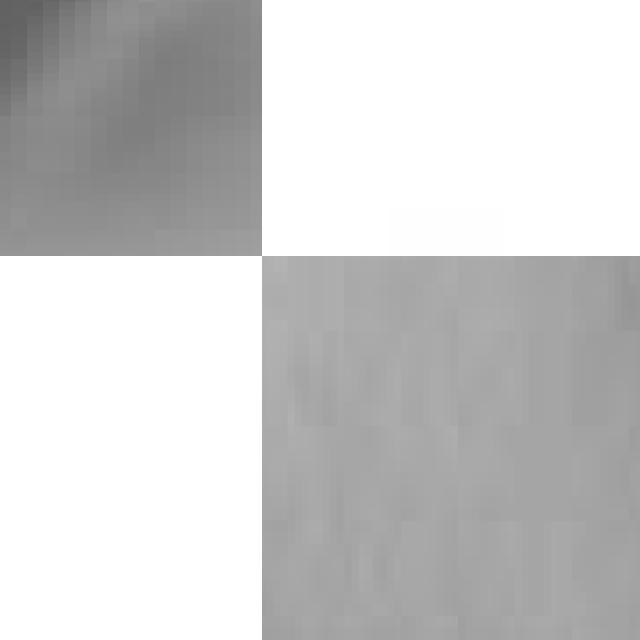spoons: (0, 0, 262, 256)
